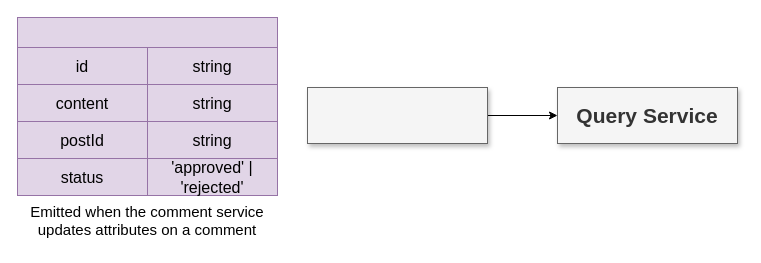
Some shapes in this 761 by 263 pixel diagram are drawn without their labels. The shapes that lost their labels are listed below. From the top down, each one's centre as x and y in pixels, then its label:
At [147,32]: "CommentUpdated".
At [398,116]: "Comments Service".
